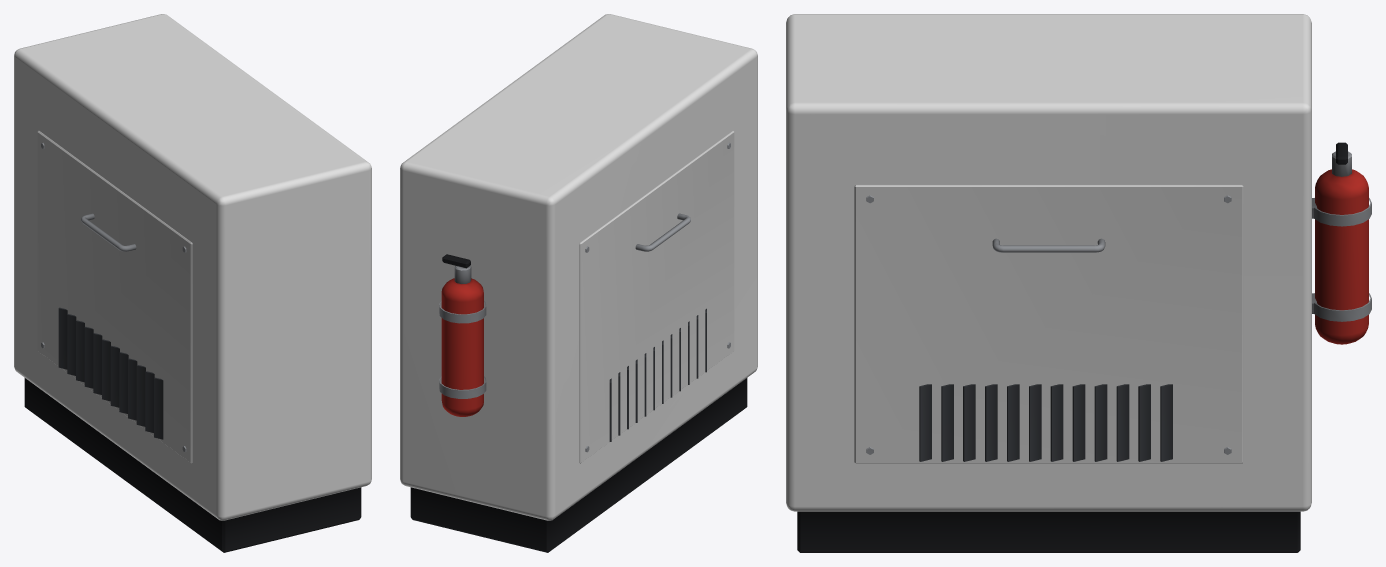
Rendered from estilo_consola_lateral.glb.
3 renders of one model, left to right at view 1: azimuth 30°, elevation 25°; view 2: azimuth 150°, elevation 25°; view 3: azimuth 270°, elevation 25°, orthographic. The views are drawn at different scales.
Visible parts, largest first — view 1: b300x660x700; view 2: b300x660x700; view 3: b300x660x700.
Boxes of the visible parts, <box> form: b300x660x700: <box>14,14,371,552</box>; b300x660x700: <box>400,14,757,552</box>; b300x660x700: <box>786,14,1371,552</box>.
Bounding box in the file's own units: 0.3595 × 0.665 × 0.78.
